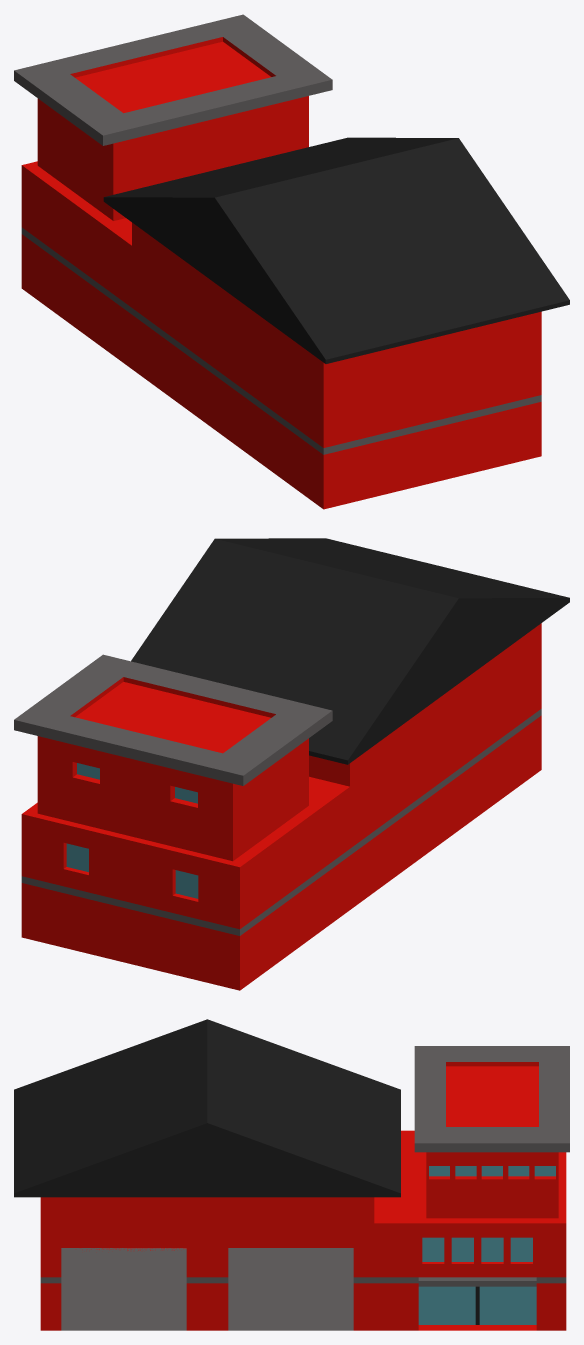
File: firestation.fbx
3 renders of one model, top to bottom at view 1: azimuth 30°, elevation 25°; view 2: azimuth 150°, elevation 25°; view 3: azimuth 270°, elevation 25°, orthographic. The views are drawn at different scales.
Visible parts, largest first — view 1: FireStation; view 2: FireStation; view 3: FireStation.
Boxes of the visible parts, box(x1,y1,x2,y2) form: FireStation: box(14, 14, 569, 509); FireStation: box(14, 538, 569, 990); FireStation: box(14, 1019, 569, 1330).
Size of the model in its own units: 676 by 648 by 1531.
